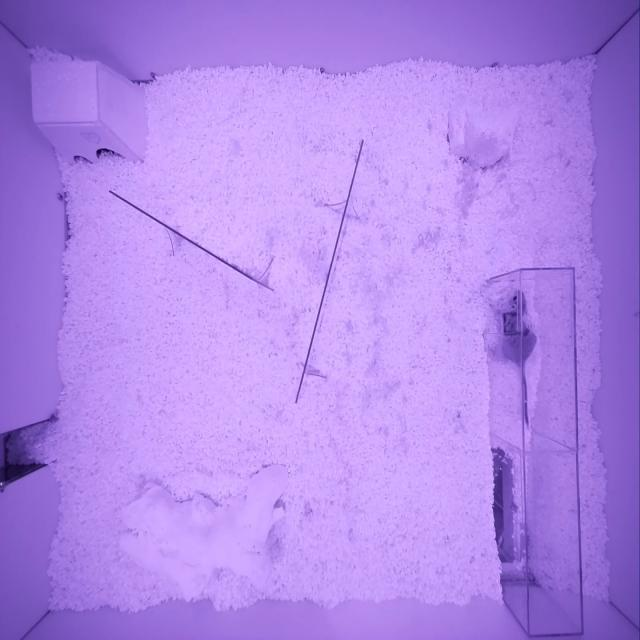adult_front: (501, 290, 537, 366)
